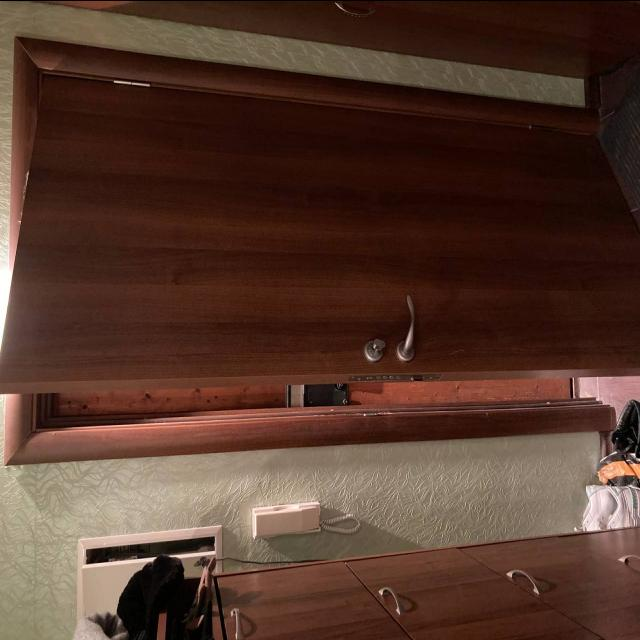open: (26, 57, 640, 459)
